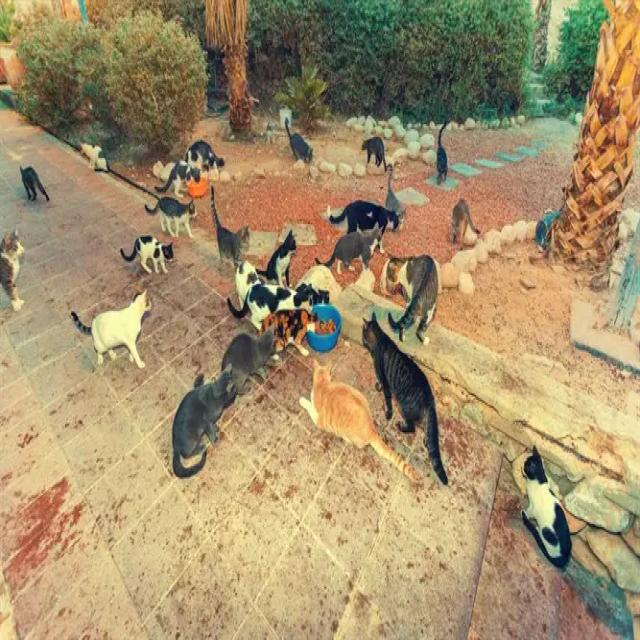cat: (362, 313, 448, 483), (300, 359, 415, 478), (172, 365, 236, 477), (71, 290, 151, 366), (522, 445, 571, 566), (380, 254, 439, 343), (228, 284, 320, 329), (221, 328, 275, 392), (315, 227, 382, 274), (211, 187, 249, 264), (329, 200, 399, 236), (262, 309, 316, 355), (259, 229, 296, 286), (120, 235, 174, 273), (145, 197, 196, 237), (0, 229, 24, 311), (155, 160, 200, 196), (451, 197, 480, 245), (385, 166, 406, 228), (286, 120, 314, 163), (235, 260, 260, 306), (185, 141, 225, 169), (534, 210, 561, 249), (20, 167, 49, 200), (361, 137, 386, 171), (80, 144, 108, 171), (436, 122, 448, 184), (262, 122, 276, 143), (315, 290, 330, 302)
